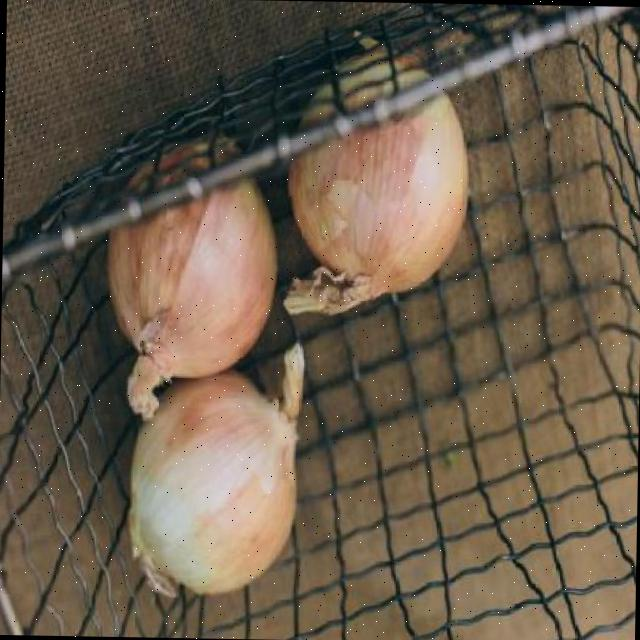Onion: (103, 174, 278, 413), (284, 90, 468, 309), (132, 372, 295, 595)
